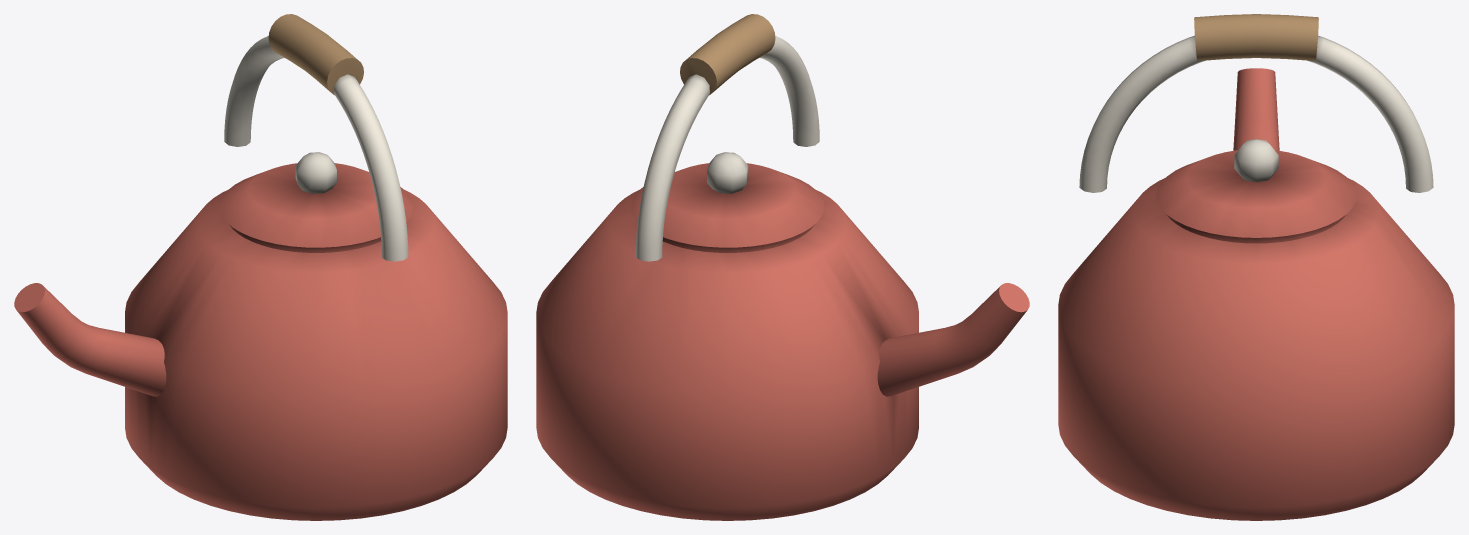
The model's file is kit_kettle.glb.
3 renders of one model, left to right at view 1: azimuth 30°, elevation 25°; view 2: azimuth 150°, elevation 25°; view 3: azimuth 270°, elevation 25°, orthographic. The views are drawn at different scales.
Parts seen in each view (by area): view 1: PART, LID; view 2: PART, LID; view 3: PART, LID.
Part boxes in pixels (bbox=[...]): PART: bbox=[14, 14, 507, 520]; LID: bbox=[219, 152, 412, 247]; PART: bbox=[536, 14, 1029, 520]; LID: bbox=[631, 152, 824, 247]; PART: bbox=[1058, 14, 1454, 520]; LID: bbox=[1156, 139, 1356, 237].
Bounding box in the file's own units: 0.2383 × 0.203 × 0.17.
